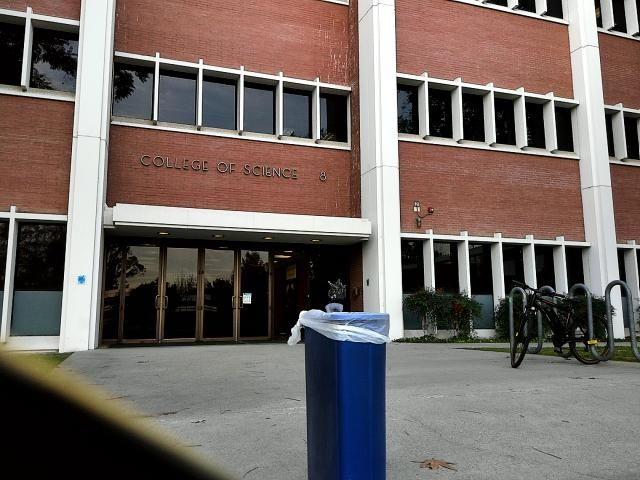trashcan_open: (284, 305, 401, 480)
